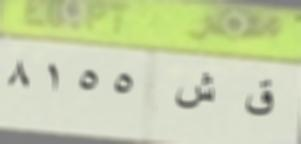1: (42, 58, 65, 94)
5: (72, 60, 101, 100), (113, 69, 137, 100)
8: (8, 58, 31, 95)
qaaf: (241, 72, 277, 120)
sheen: (176, 68, 216, 116)
